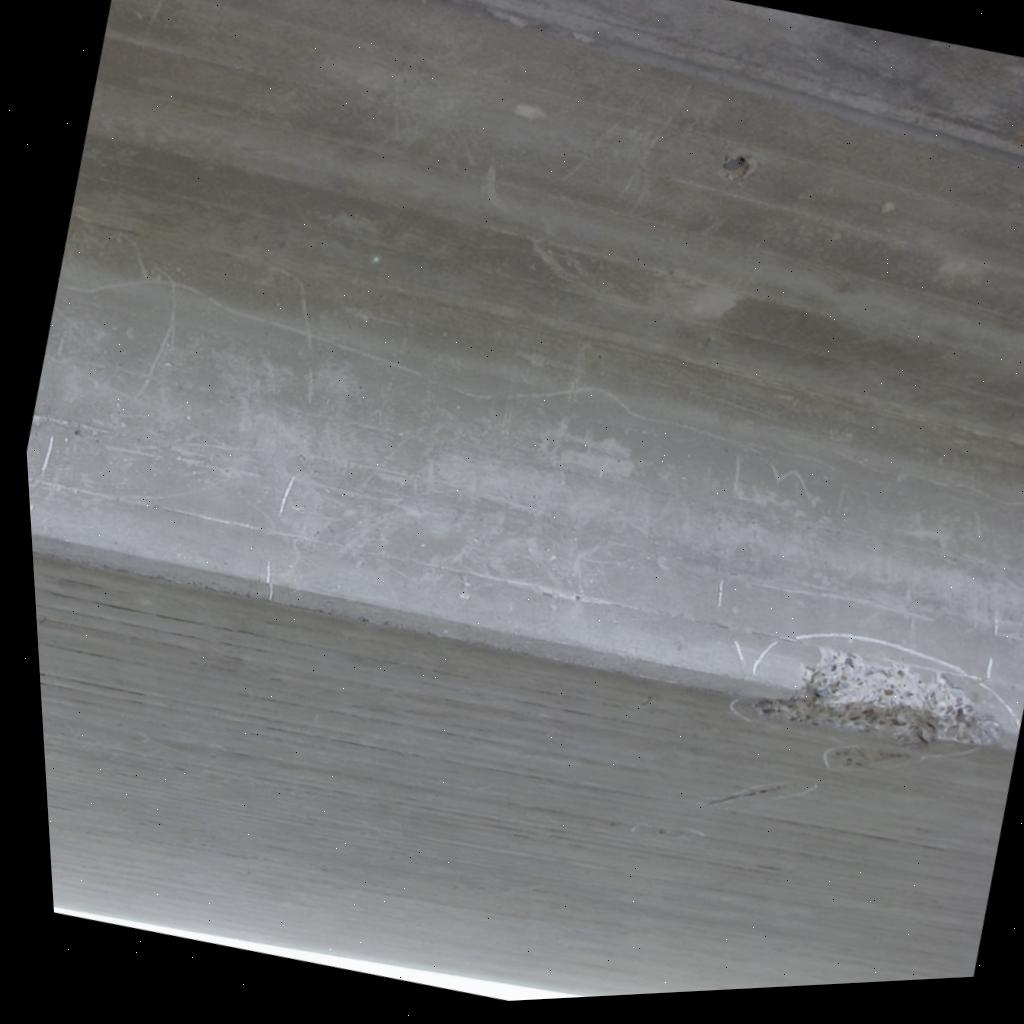spalling: (750, 648, 1001, 767)
